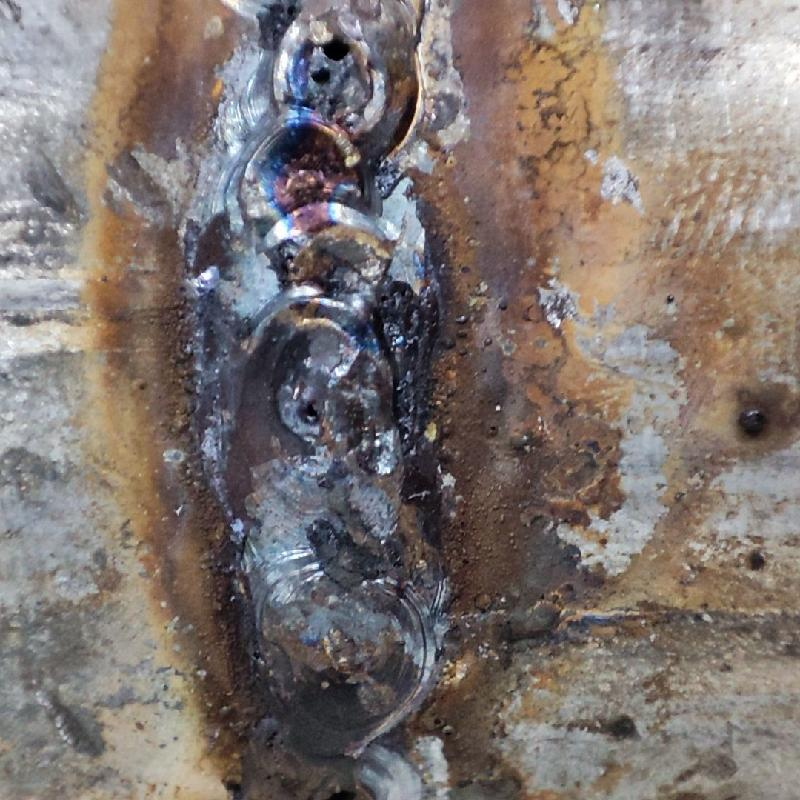Surface_pores: (292, 29, 363, 95), (285, 385, 338, 439)
crater: (201, 6, 410, 475)
